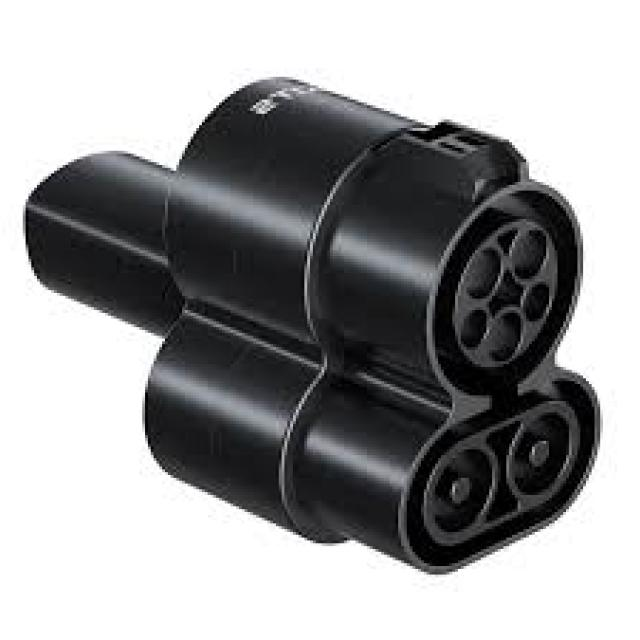CCS1: (379, 180, 604, 565)
